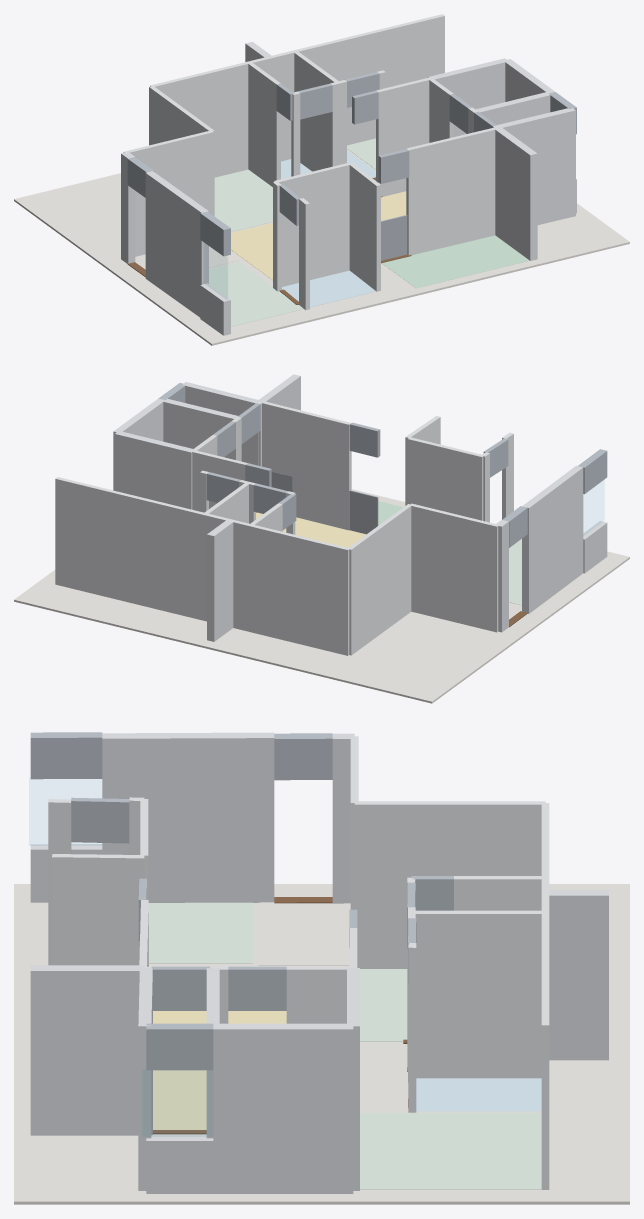
The picture shows the model from 3 angles, top to bottom: view 1: azimuth 30°, elevation 25°; view 2: azimuth 150°, elevation 25°; view 3: azimuth 270°, elevation 25°; orthographic projection. The views are drawn at different scales.
Parts seen in each view (by area): view 1: floor_slab, wall_post_003_final, wall_011_w12, wall_post_015_01, wall_017_w18, wall_009_w10, wall_004_w5, wall_000_w1, wall_014_w15, wall_post_007_final, room_finish_006_balcony, wall_018_w19 (+30 smaller); view 2: floor_slab, wall_011_w12, wall_009_w10, wall_014_w15, wall_post_003_final, wall_013_w14, wall_post_015_01, wall_017_w18, wall_008_w9, wall_012_w13, wall_010_w11, wall_019_w20 (+24 smaller); view 3: floor_slab, wall_post_015_01, wall_006_w7, wall_021_w22, wall_013_w14, wall_000_w1, room_finish_011_bedroom, wall_012_w13, wall_018_w19, room_finish_004_bedroom, room_finish_008_corridor, room_finish_007_living_room (+24 smaller).
Part boxes in pixels (box(x1,y1,x2,y2)): floor_slab: box(14, 149, 629, 345); wall_post_003_final: box(406, 127, 498, 255); wall_011_w12: box(294, 14, 444, 145); wall_post_015_01: box(145, 171, 208, 317); wall_017_w18: box(273, 163, 349, 286); wall_009_w10: box(150, 61, 249, 177); wall_004_w5: box(497, 107, 575, 224); wall_000_w1: box(494, 126, 537, 260); wall_014_w15: box(123, 130, 213, 256); wall_post_007_final: box(376, 77, 429, 196); room_finish_006_balcony: box(382, 235, 529, 288); wall_018_w19: box(349, 163, 380, 291); floor_slab: box(14, 489, 629, 703); wall_011_w12: box(55, 477, 206, 620); wall_009_w10: box(249, 524, 349, 655); wall_014_w15: box(410, 503, 498, 632); wall_post_003_final: box(261, 401, 351, 530); wall_013_w14: box(348, 504, 411, 655); wall_post_015_01: box(522, 465, 583, 613); wall_017_w18: box(407, 437, 483, 520); wall_008_w9: box(114, 431, 195, 509); wall_012_w13: box(207, 520, 233, 641); wall_010_w11: box(204, 513, 251, 631); wall_019_w20: box(160, 398, 238, 458); floor_slab: box(14, 884, 629, 1204); wall_post_015_01: box(102, 732, 274, 902); wall_006_w7: box(213, 1023, 353, 1193); wall_021_w22: box(412, 910, 545, 1078); wall_013_w14: box(354, 801, 545, 968); wall_000_w1: box(30, 965, 144, 1135); room_finish_011_bedroom: box(360, 1113, 541, 1189); wall_012_w13: box(549, 890, 608, 1060); wall_018_w19: box(52, 854, 144, 965); room_finish_004_bedroom: box(148, 902, 252, 963); room_finish_008_corridor: box(258, 902, 350, 965); room_finish_007_living_room: box(153, 1011, 286, 1129).
Bounding box in the file's own units: 11.58 × 2.85 × 9.49.
